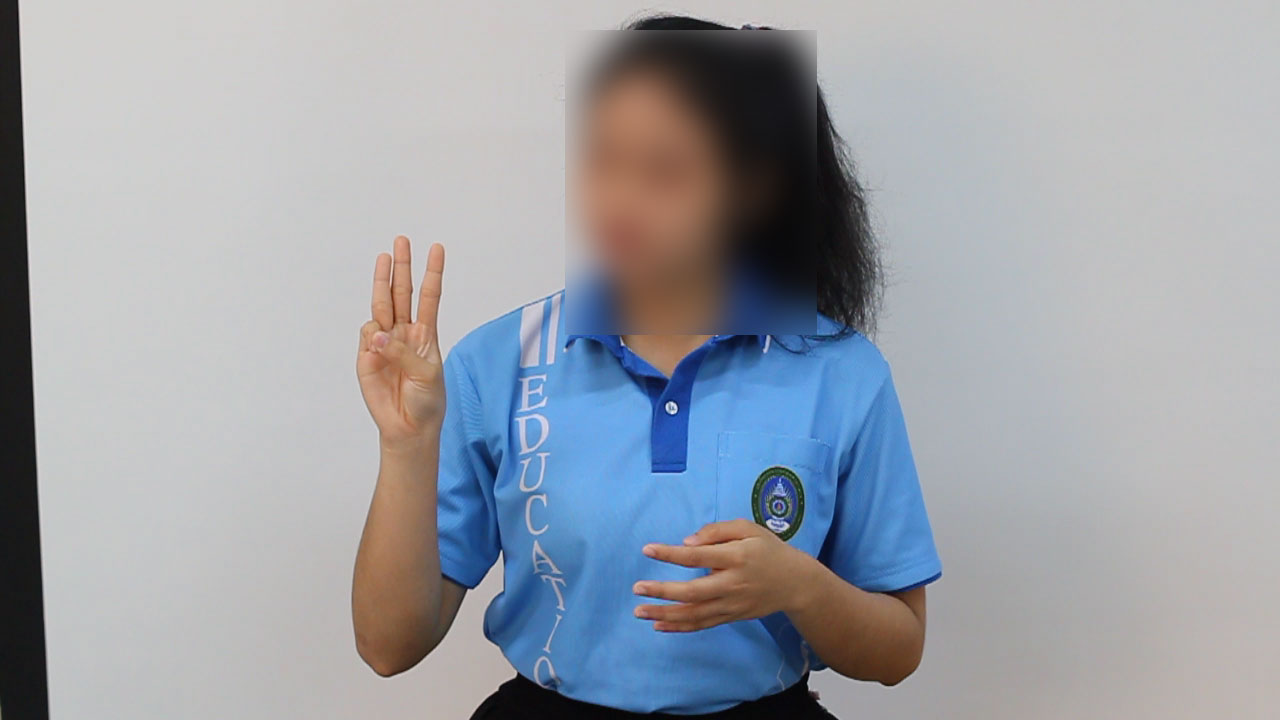wor: (349, 225, 451, 457)
